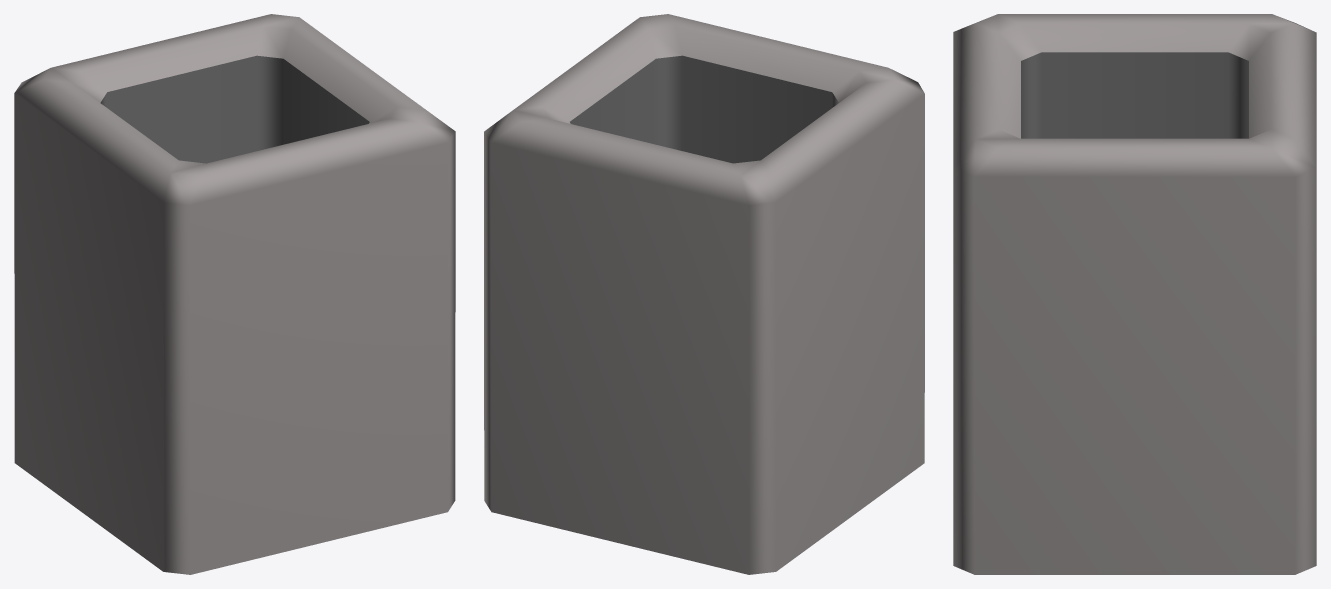
File: trash_002.fbx
The picture shows the model from 3 angles, left to right: view 1: azimuth 30°, elevation 25°; view 2: azimuth 150°, elevation 25°; view 3: azimuth 270°, elevation 25°; orthographic projection. The views are drawn at different scales.
Visible parts, largest first — view 1: trash_002; view 2: trash_002; view 3: trash_002.
Part boxes in pixels (x1,y1,x2,y2): trash_002: [14, 14, 455, 574]; trash_002: [484, 14, 924, 574]; trash_002: [953, 14, 1316, 574].
Size of the model in its own units: 54.84 by 69.45 by 54.84.
